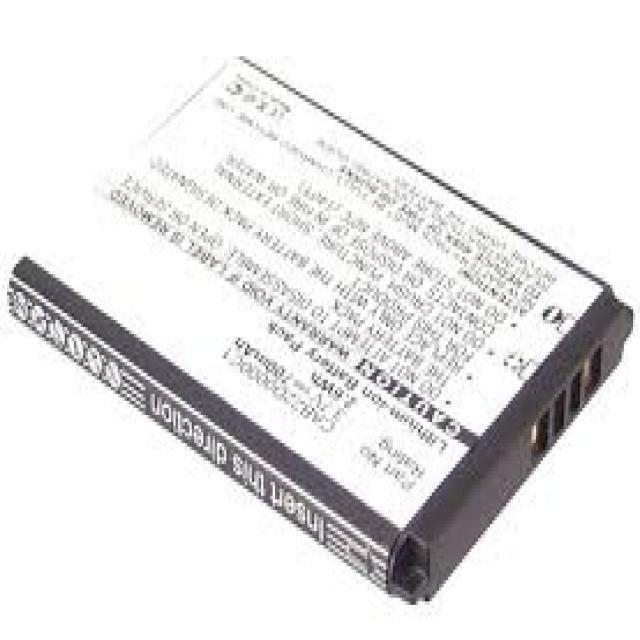battery: (8, 56, 633, 606)
